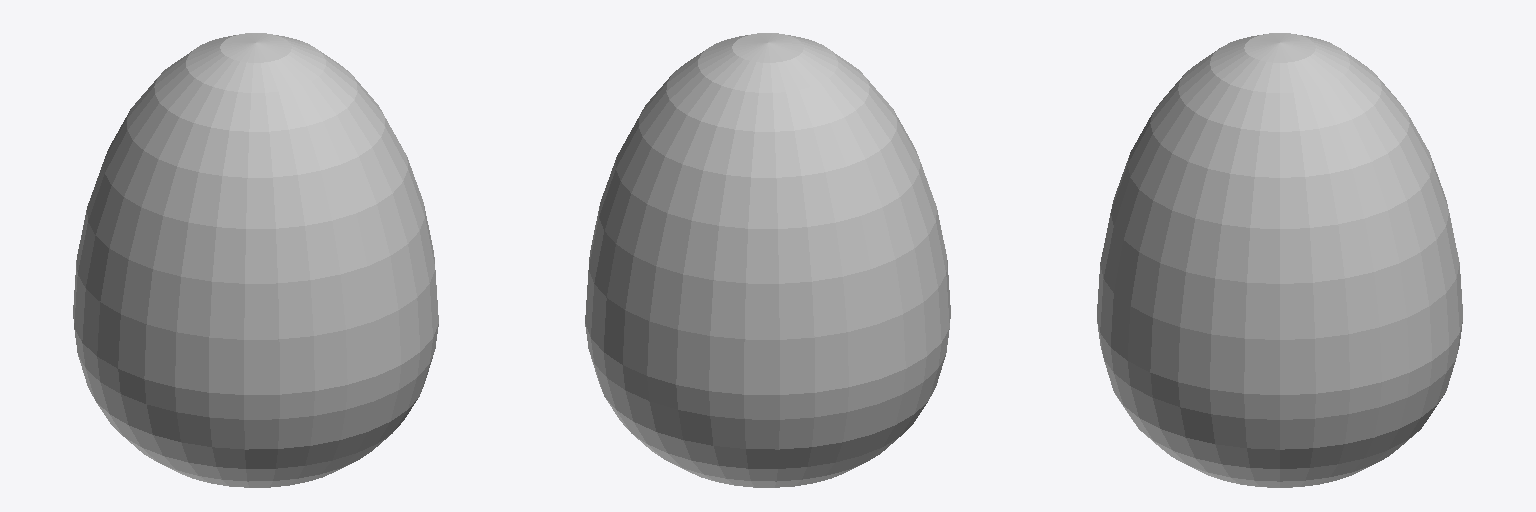
The model's file is egg.obj.
3 views of the same model, side by side, from view 1: azimuth 30°, elevation 25°; view 2: azimuth 150°, elevation 25°; view 3: azimuth 270°, elevation 25° (orthographic).
Parts seen in each view (by area): view 1: Sphere; view 2: Sphere; view 3: Sphere.
Boxes of the visible parts, x1=… form: Sphere: x1=73, y1=33, x2=438, y2=487; Sphere: x1=585, y1=33, x2=950, y2=487; Sphere: x1=1097, y1=33, x2=1462, y2=487.
Bounding box in the file's own units: 2.41 × 3.1 × 2.41.